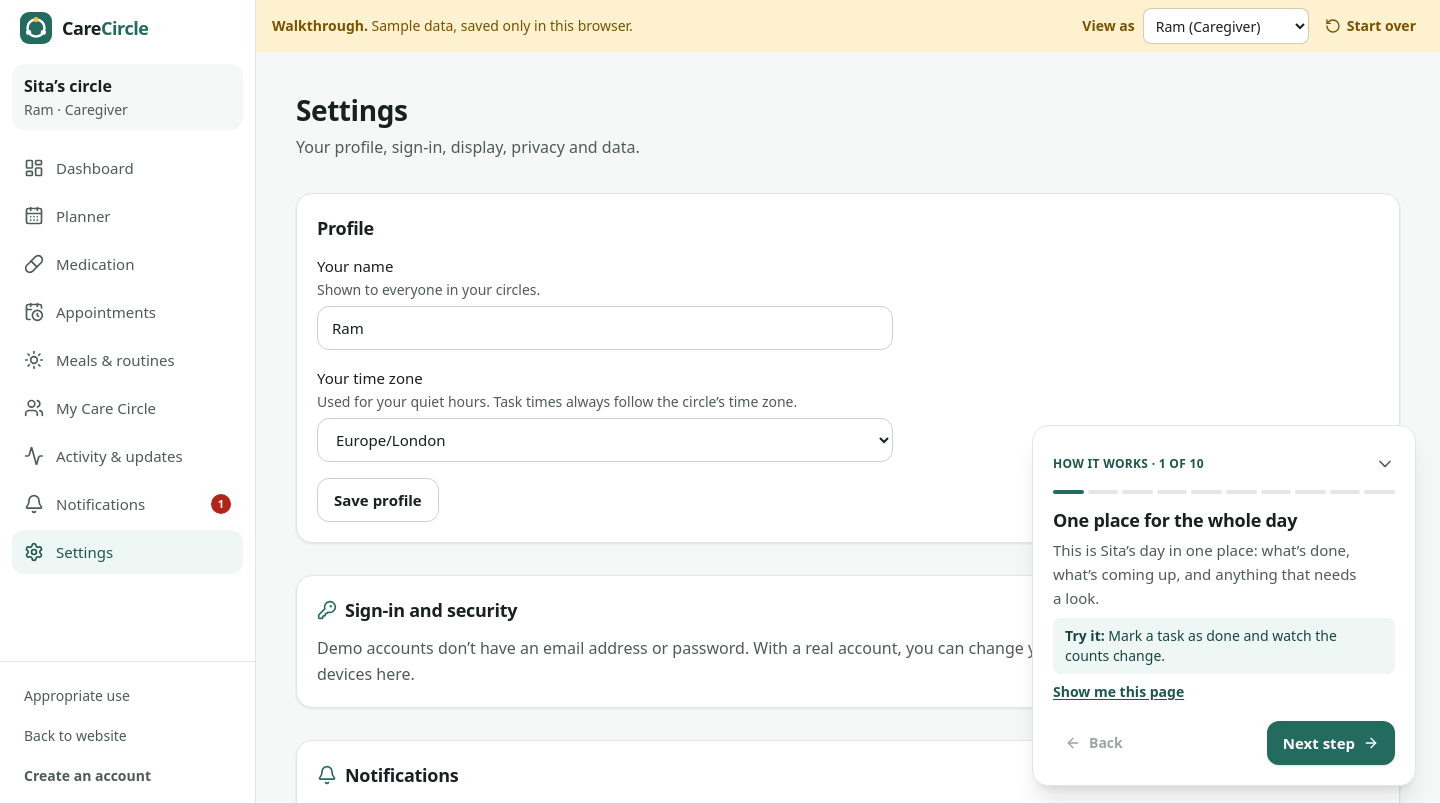
settings › saves a new display name
This screenshot has width=1440, height=803.
Replace the text in the field labelled "Your name" with "Thomas": (605, 328) x1=317 y1=306 x2=893 y2=350
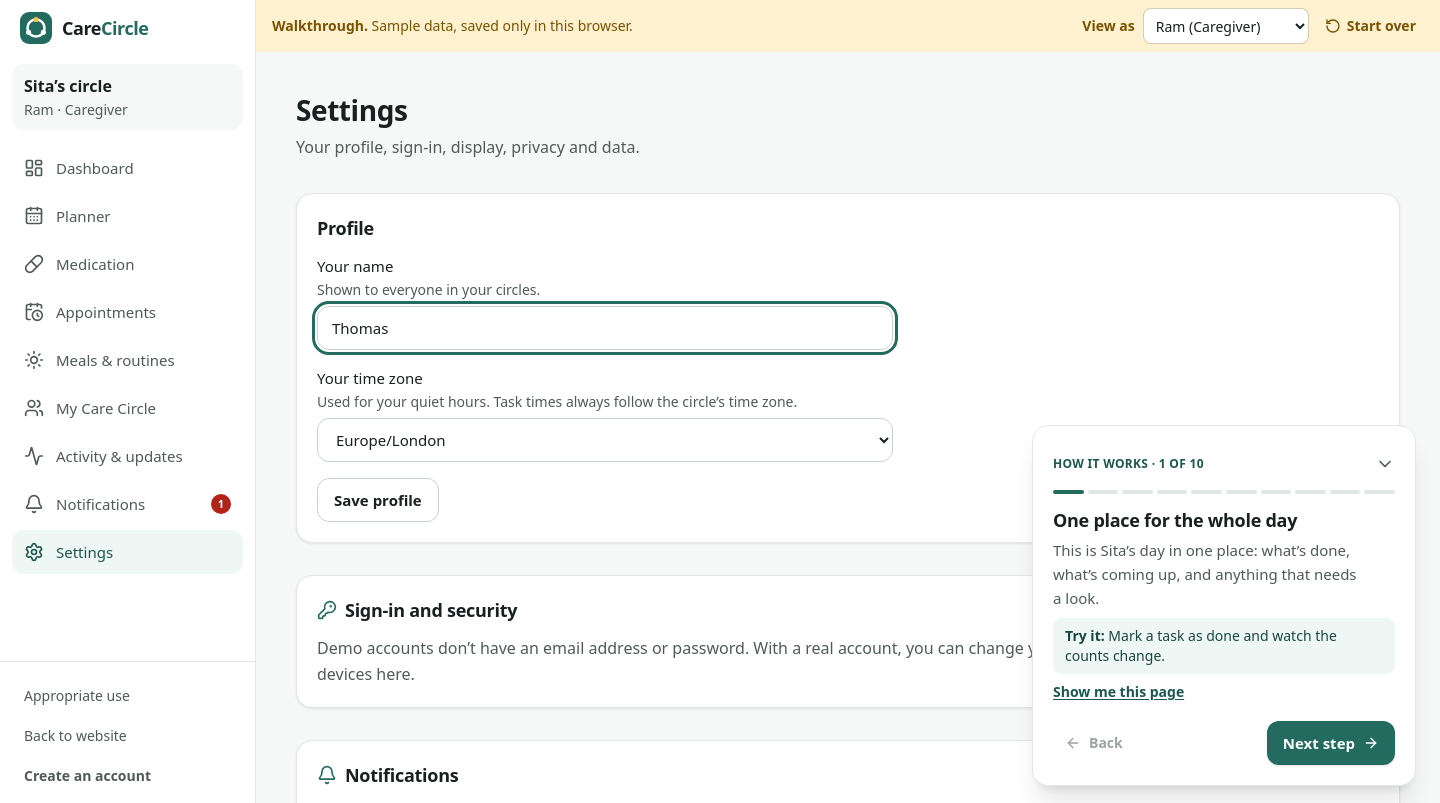
Click the button "Save profile": click(378, 500) x1=317 y1=478 x2=439 y2=522
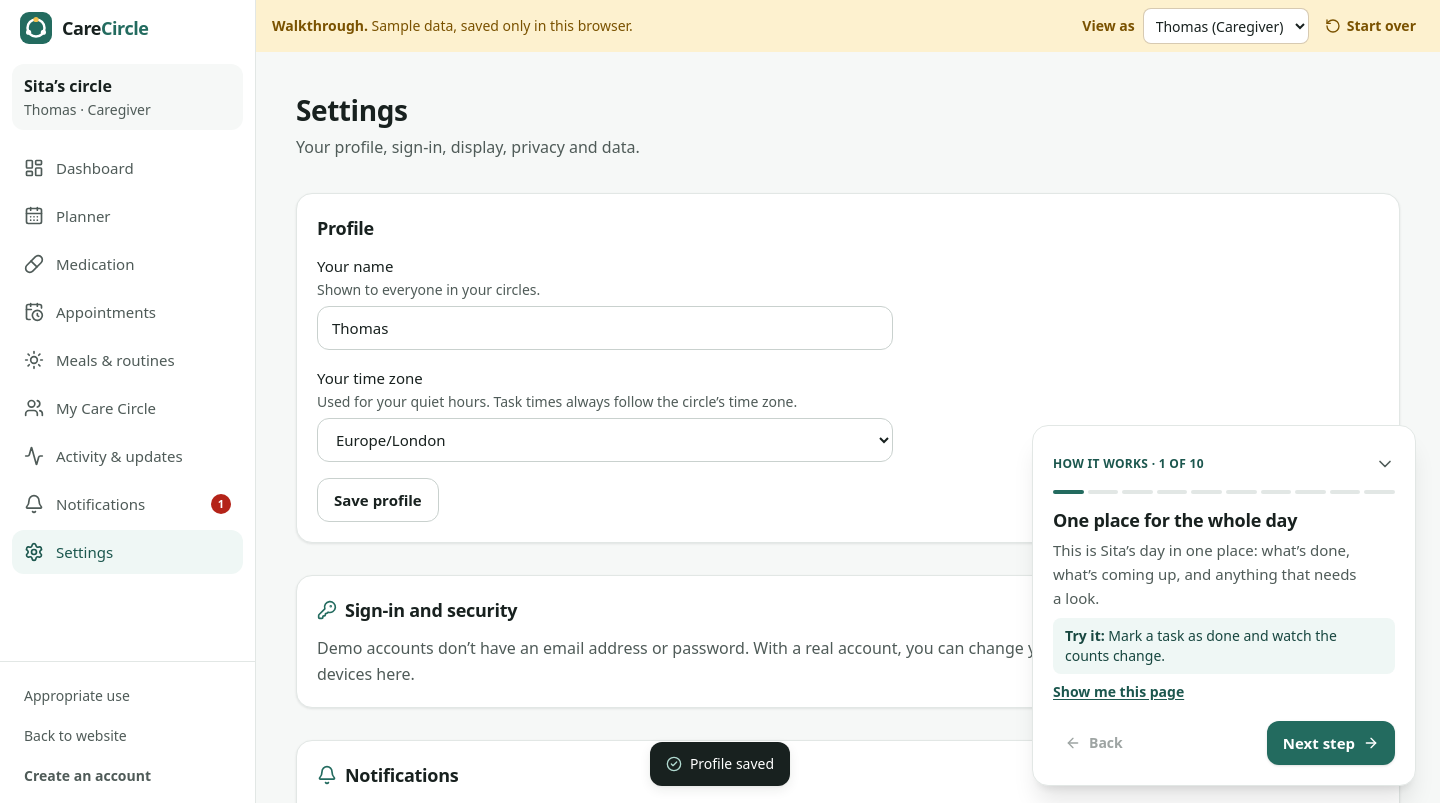
Expected: the text "Profile saved" is shown, x1=650 y1=742 x2=790 y2=786
Expected: the text "Thomas · Caregiver" is shown, x1=24 y1=100 x2=151 y2=119
